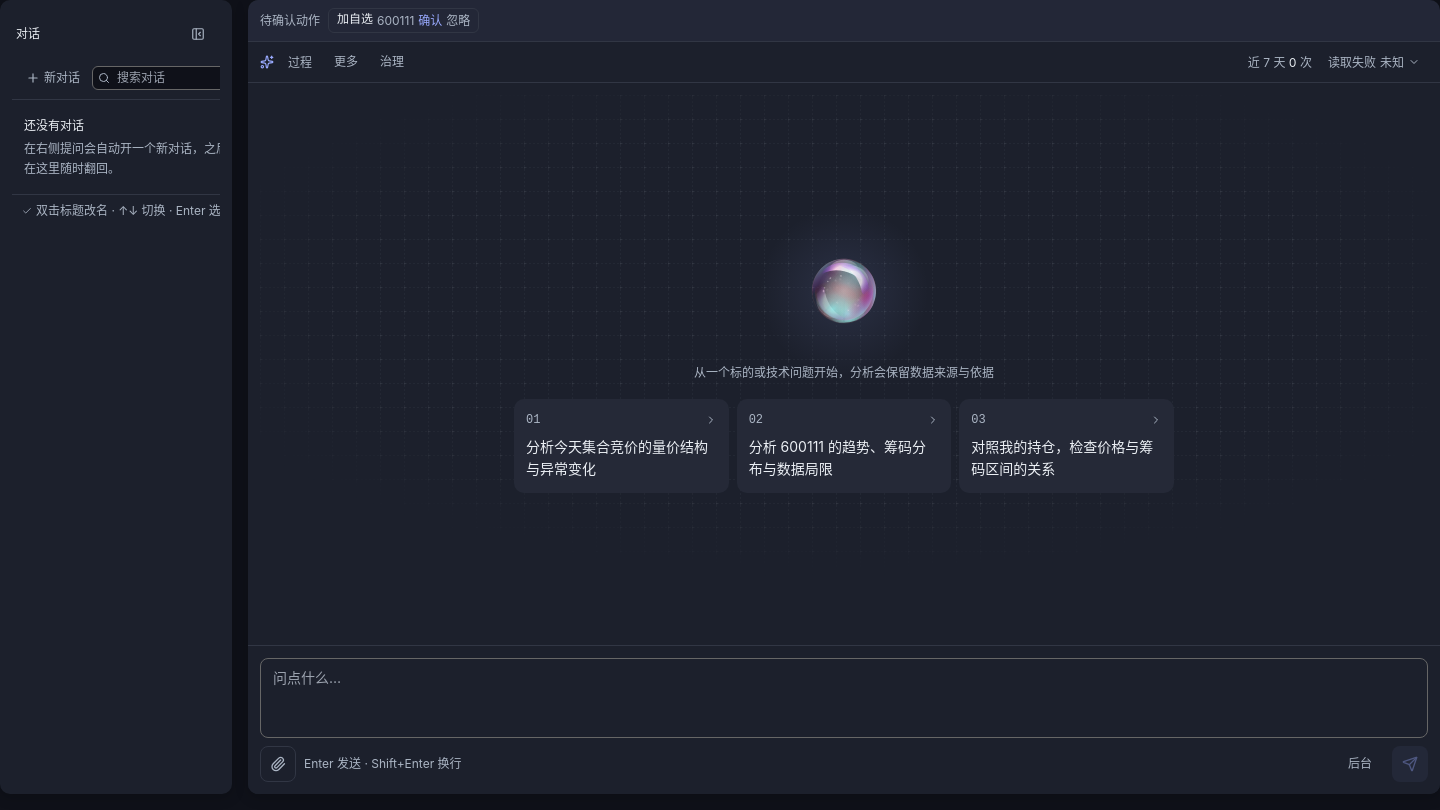
Test: 待确认动作 · 提交中禁重 + 失败就地提示 › 忽略失败同样就地报错，不静默吞掉
Expected: the element with test id "copilot-pending-actions" is shown, left=248, top=0, right=1439, bottom=42
Click the button "忽略" at x=458, y=21, box left=446, top=11, right=470, bottom=30
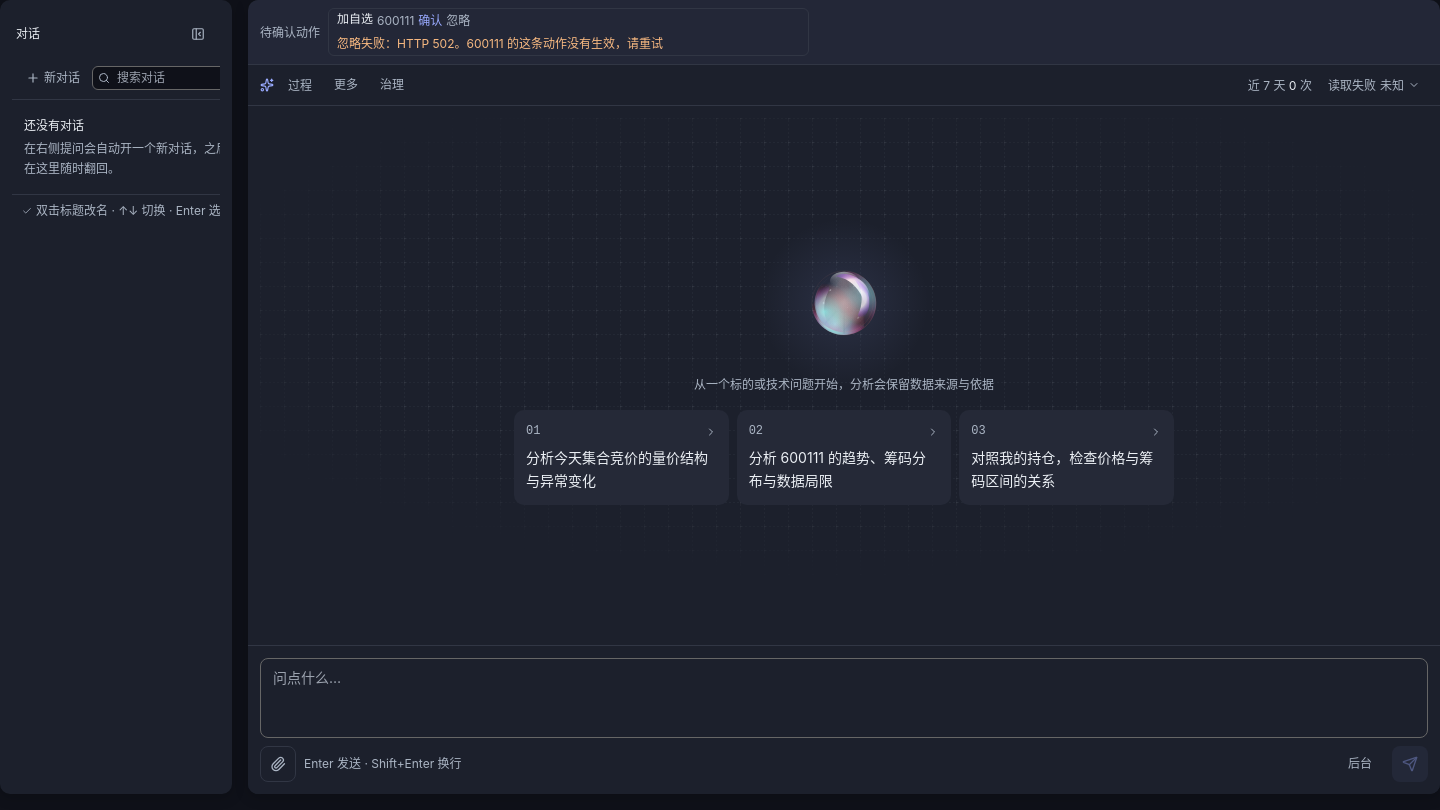
Expected: the element with test id "copilot-pending-actions" is shown, left=248, top=0, right=1439, bottom=65
Expected: the message with test id "copilot-pending-error" shows "失败", left=337, top=36, right=663, bottom=51
